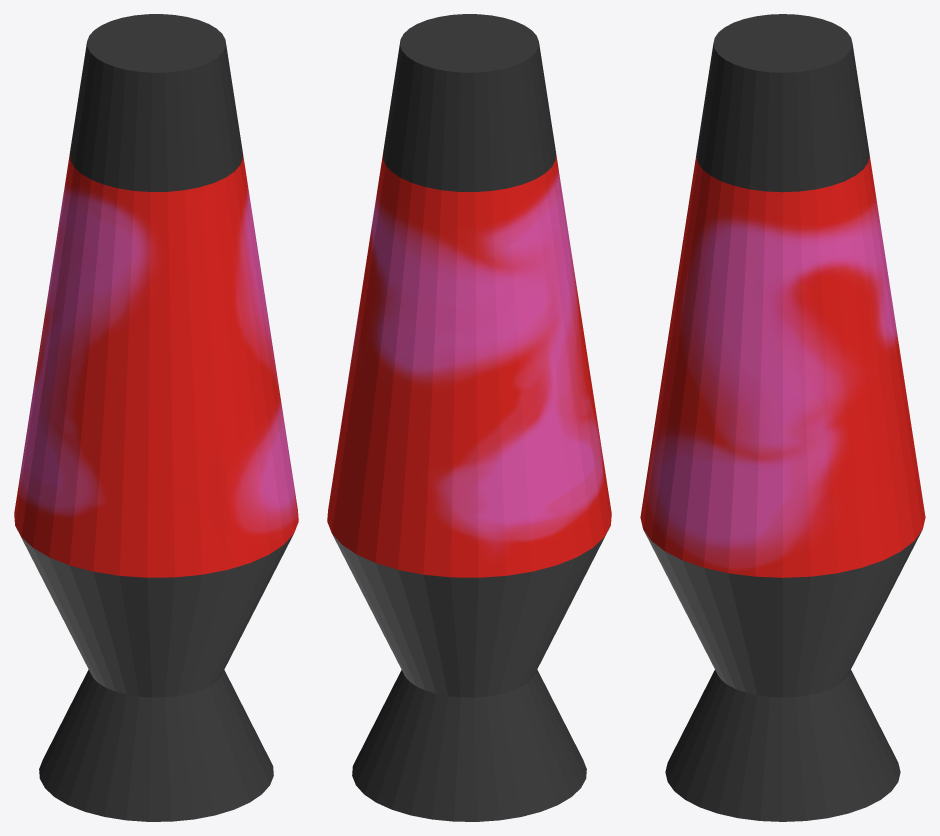
The model's file is LavaLamp.fbx.
3 renders of one model, left to right at view 1: azimuth 30°, elevation 25°; view 2: azimuth 150°, elevation 25°; view 3: azimuth 270°, elevation 25°, orthographic.
Parts seen in each view (by area): view 1: Cylinder; view 2: Cylinder; view 3: Cylinder.
Boxes of the visible parts, left/top/right/bottom form: Cylinder: left=14, top=14, right=298, bottom=821; Cylinder: left=327, top=14, right=611, bottom=821; Cylinder: left=640, top=14, right=925, bottom=821.
Size of the model in its own units: 31.83 by 89.76 by 31.83.
Materials: 3 (1 with a texture image).
